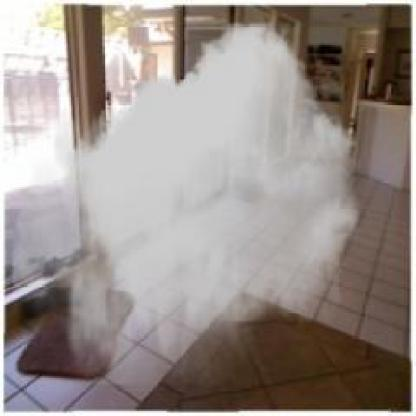Smoke: (12, 22, 361, 385)
